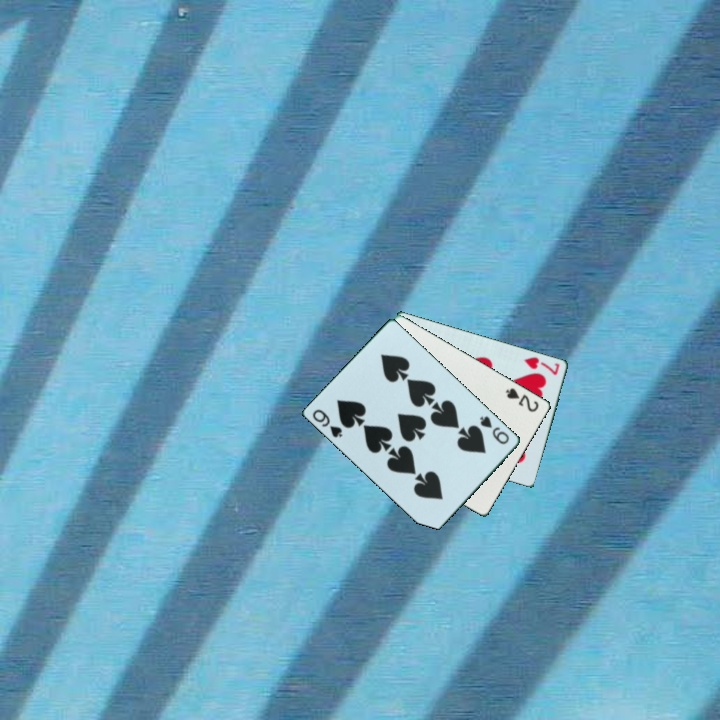2s: (502, 384, 542, 415)
7h: (521, 353, 563, 378)
9s: (476, 412, 513, 447), (309, 406, 346, 440)
